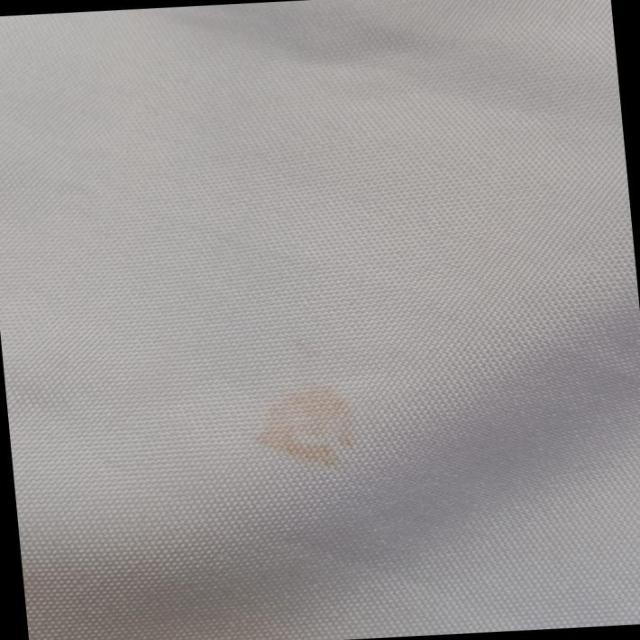stain: (249, 375, 380, 479)
